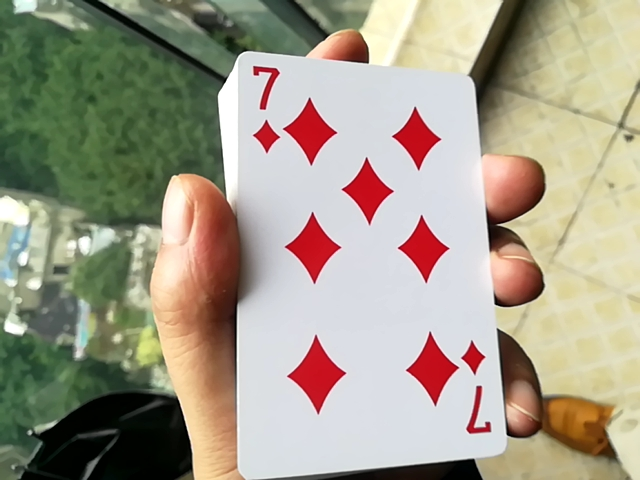fk 7: (212, 31, 497, 478)
